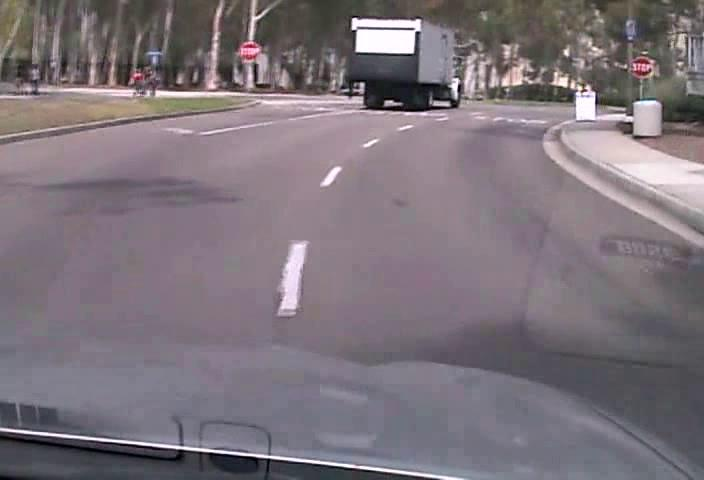stop: (239, 40, 260, 60)
